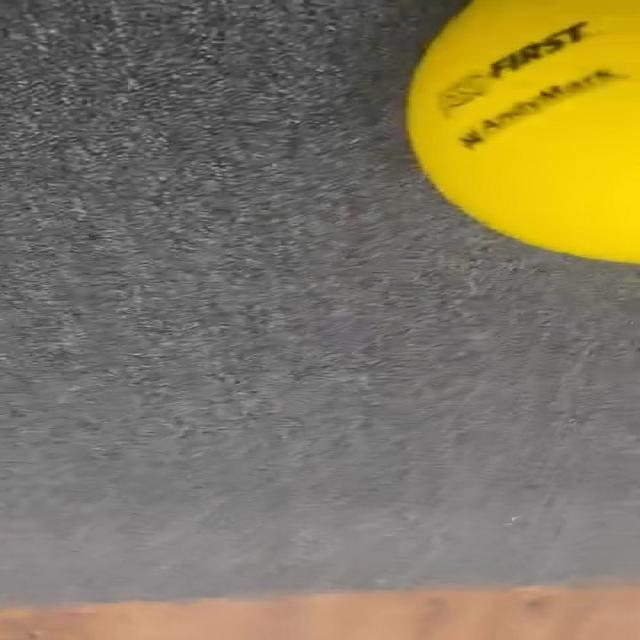Fuels: (402, 1, 640, 260)
